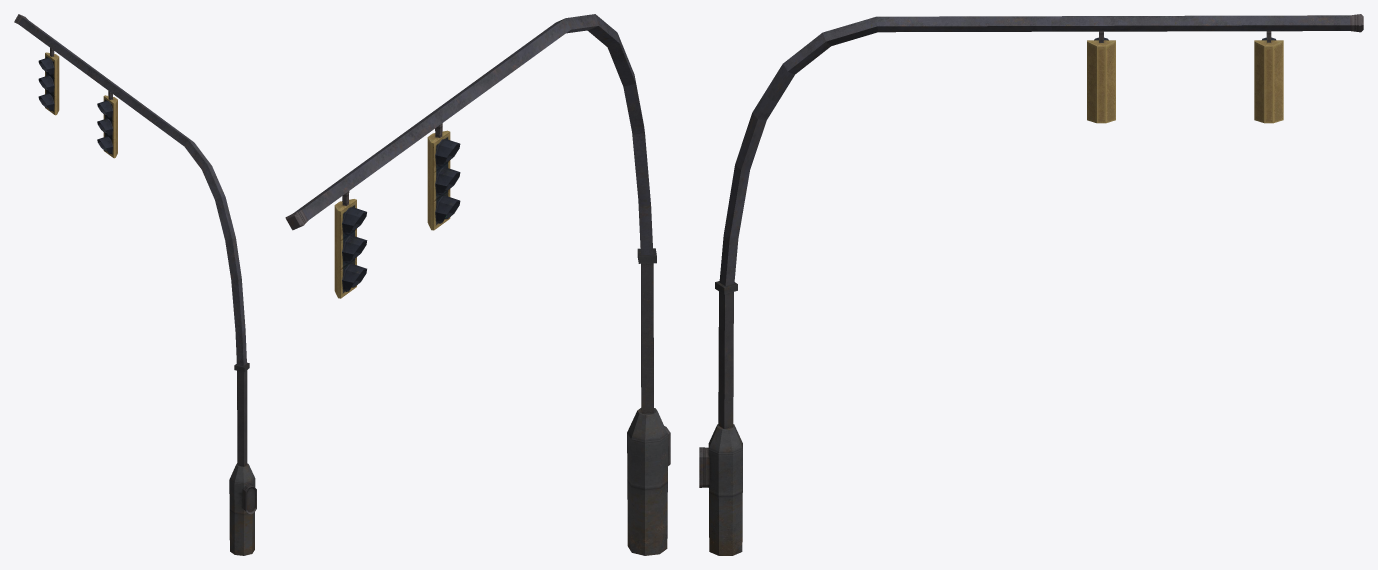
The model's file is Traffic_Light_Vehicle_LGRG.glb.
The picture shows the model from 3 angles, left to right: view 1: azimuth 30°, elevation 25°; view 2: azimuth 150°, elevation 25°; view 3: azimuth 270°, elevation 25°; orthographic projection. The views are drawn at different scales.
Size of the model in its own units: 0.3674 by 6.03 by 6.79.
Materials: 2 (2 with a texture image).
